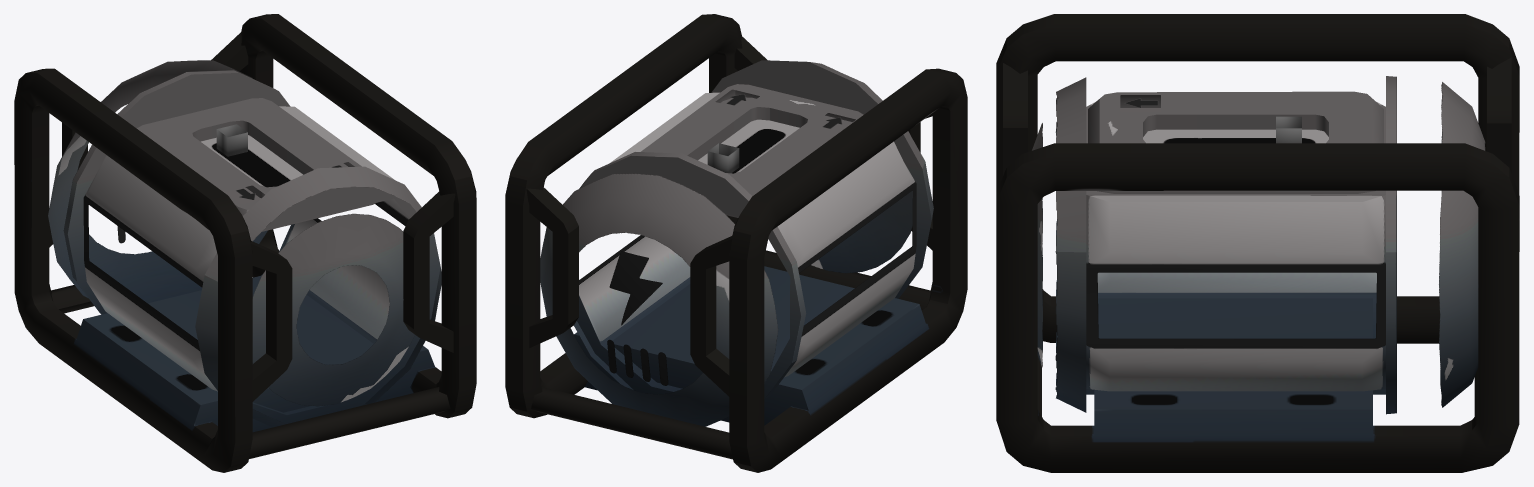
Rendered from obj_interactive_electricengine_02_off.fbx.
The picture shows the model from 3 angles, left to right: view 1: azimuth 30°, elevation 25°; view 2: azimuth 150°, elevation 25°; view 3: azimuth 270°, elevation 25°; orthographic projection. The views are drawn at different scales.
Parts seen in each view (by area): view 1: obj_interactive_electricengine_02_off; view 2: obj_interactive_electricengine_02_off; view 3: obj_interactive_electricengine_02_off.
Part boxes in pixels (x1,y1,x2,y2): obj_interactive_electricengine_02_off: (14,14,476,472); obj_interactive_electricengine_02_off: (505,14,967,472); obj_interactive_electricengine_02_off: (996,14,1519,472).
Size of the model in its own units: 2.05 by 2.04 by 3.03.
